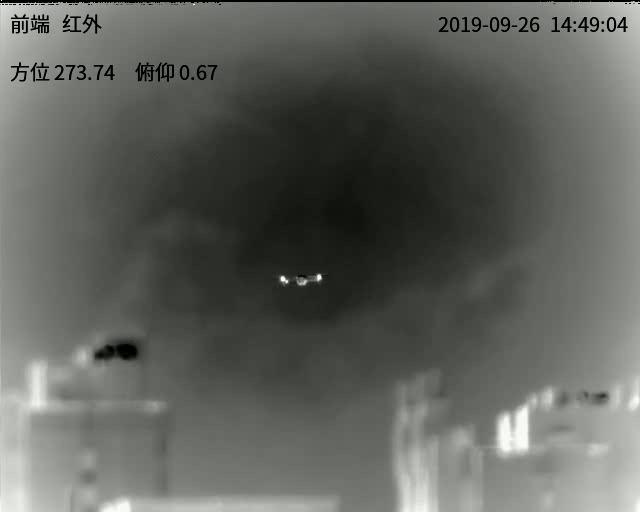DRONE: (278, 273, 323, 287)
